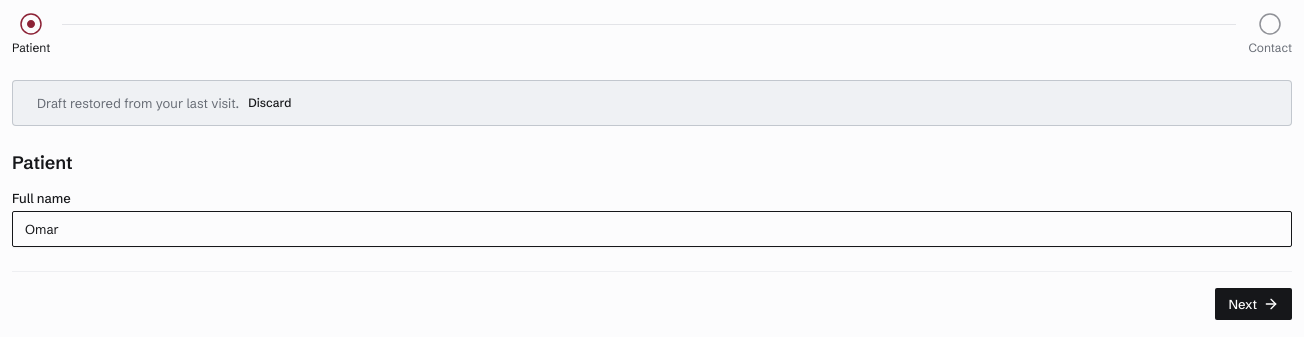
FormWizard draft › restores a draft with a notice; Discard resets the form and removes it
Expected: the text "Draft restored from your last visit." is shown, [37,94,292,112]
Expected: the field labelled "Full name" holds "Omar", [12,211,1292,247]
Click the button named "Discard" next to "Draft restored from your last visit.": coordinates (270, 103) [247,94,292,112]
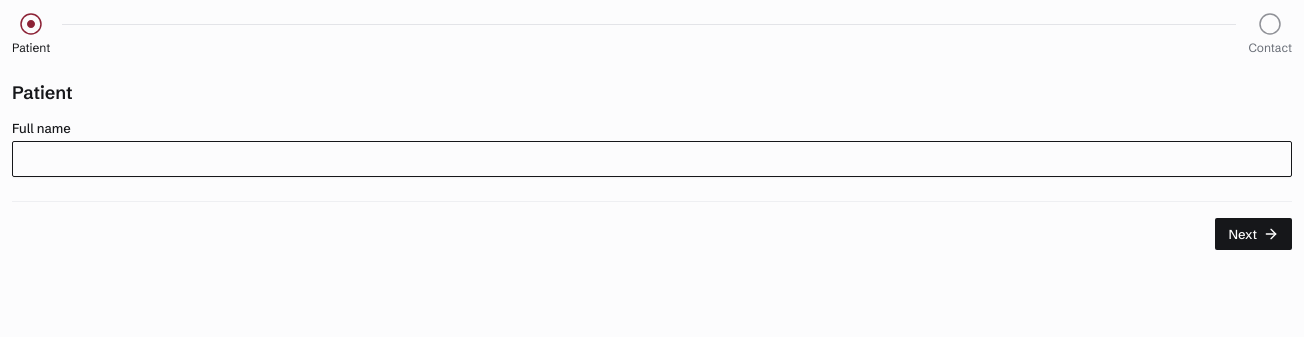
Expected: the field labelled "Full name" is empty, [12,141,1292,177]
Expected: the text "Draft restored from your last visit." is gone
